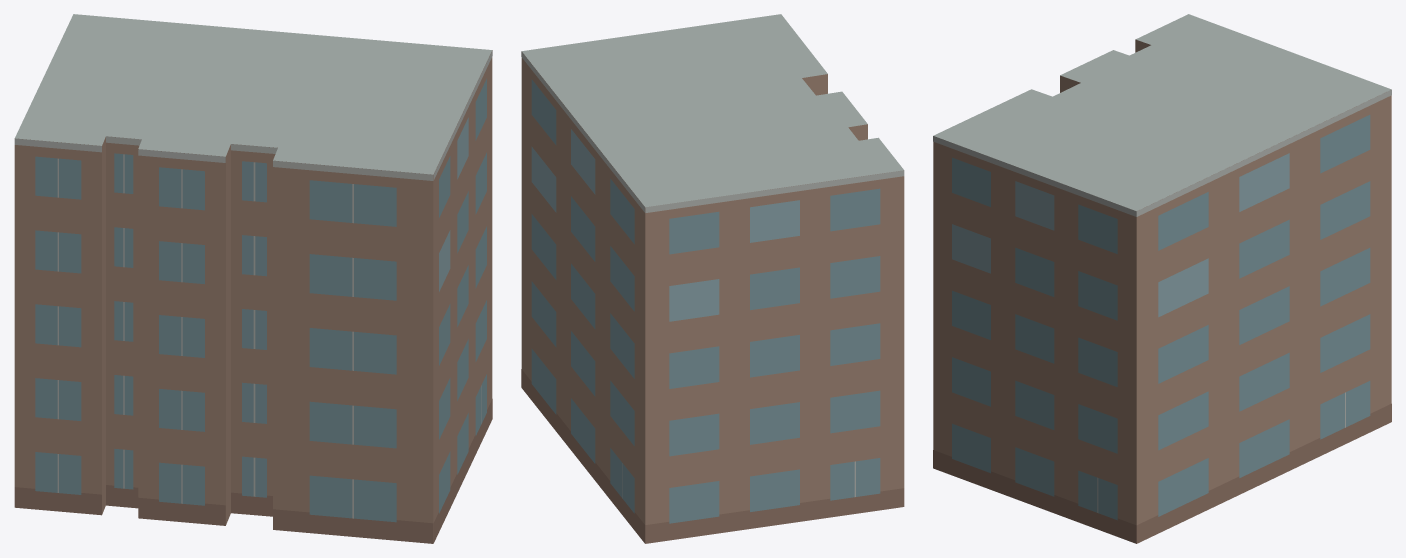
Rendered from survey-upis-32533959.glb.
3 renders of one model, left to right at view 1: azimuth 30°, elevation 25°; view 2: azimuth 150°, elevation 25°; view 3: azimuth 270°, elevation 25°, orthographic. The views are drawn at different scales.
Visible parts, largest first — view 1: survey-upis-32533959.tmp; view 2: survey-upis-32533959.tmp; view 3: survey-upis-32533959.tmp.
Part boxes in pixels (<box>): survey-upis-32533959.tmp: <box>14,14,492,543</box>; survey-upis-32533959.tmp: <box>521,14,904,543</box>; survey-upis-32533959.tmp: <box>933,14,1391,543</box>.
Bounding box in the file's own units: 17.82 × 14 × 17.5.
